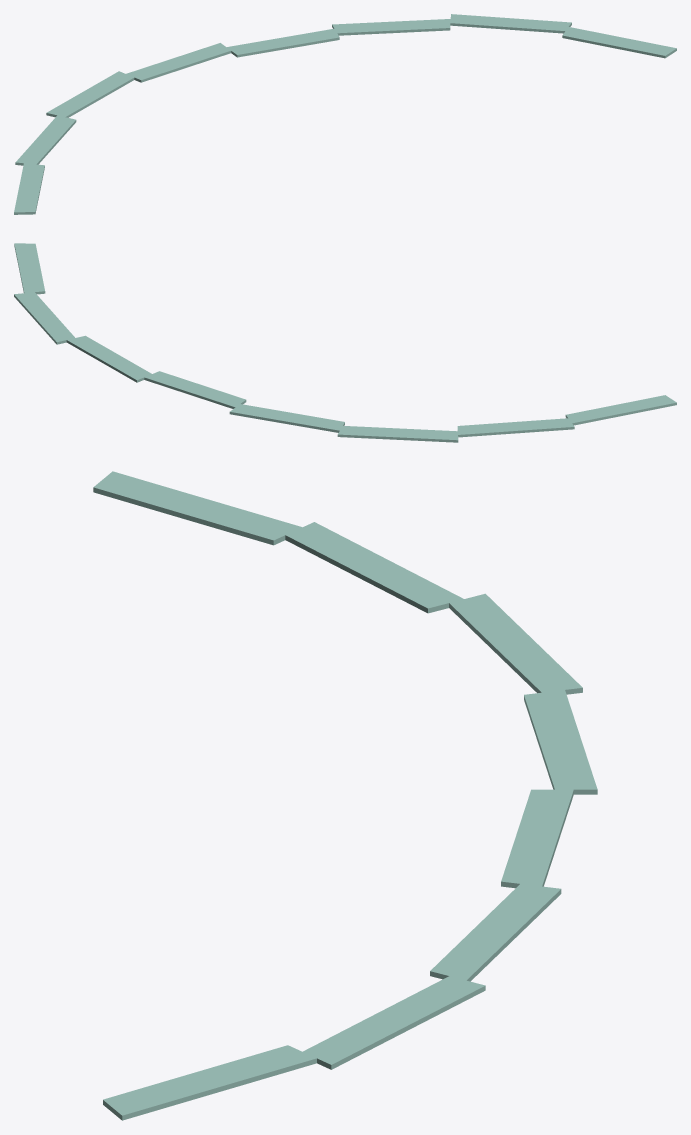
The model's file is PirateCove_ShoreFoam_Simple.glb.
3 views of the same model, one above another, from view 1: azimuth 30°, elevation 25°; view 2: azimuth 150°, elevation 25°; view 3: azimuth 270°, elevation 25° (orthographic). The views are drawn at different scales.
Visible parts, largest first — view 1: PirateCove_ShoreFoam_Simple; view 2: PirateCove_ShoreFoam_Simple; view 3: PirateCove_ShoreFoam_Simple.
Part boxes in pixels (<box>): PirateCove_ShoreFoam_Simple: <box>14,14,676,214</box>; PirateCove_ShoreFoam_Simple: <box>14,243,676,442</box>; PirateCove_ShoreFoam_Simple: <box>93,471,597,1120</box>.
Bounding box in the file's own units: 5 × 0.018 × 1.65.
